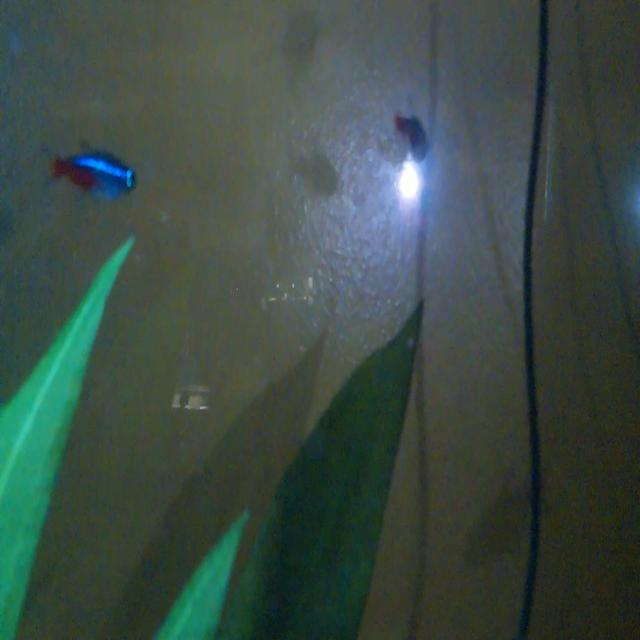fish: (43, 136, 145, 214), (383, 93, 438, 165)
